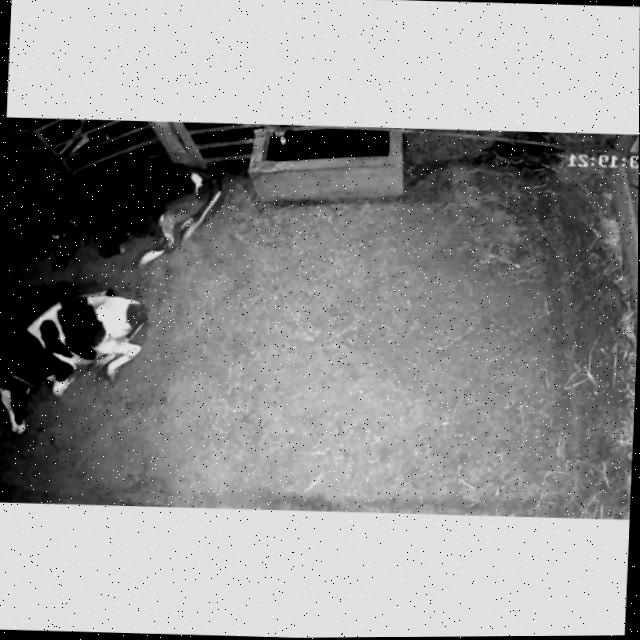lay: (17, 150, 225, 284), (0, 281, 159, 451)
